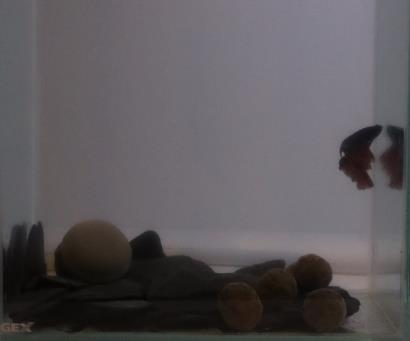fish: (335, 123, 385, 192)
